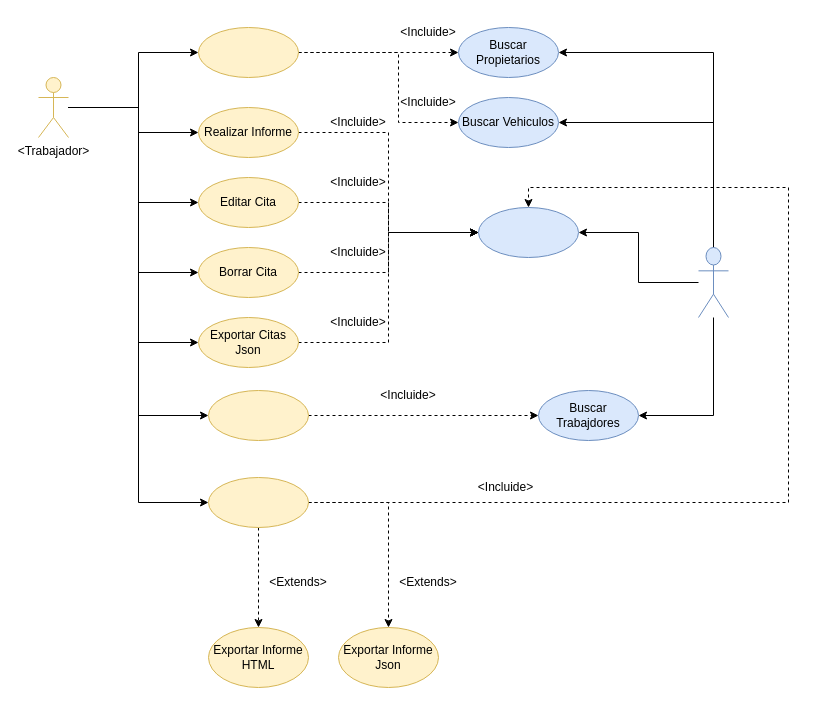
This 814x705 diagram has some shape labels left out. The centre of each missing label's shape, as x and y in pixels:
"<Base de Datos>" belongs at point 713,282.
"Buscar Citas" belongs at point 528,232.
"Crear Cita" belongs at point 248,52.
"Exportar Informe" belongs at point 258,502.
"Exportar Trabajadores" belongs at point 258,415.
